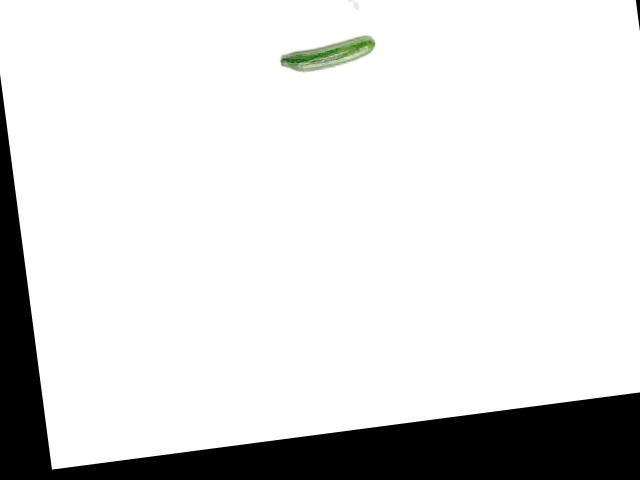cucumber: (278, 35, 378, 74)
